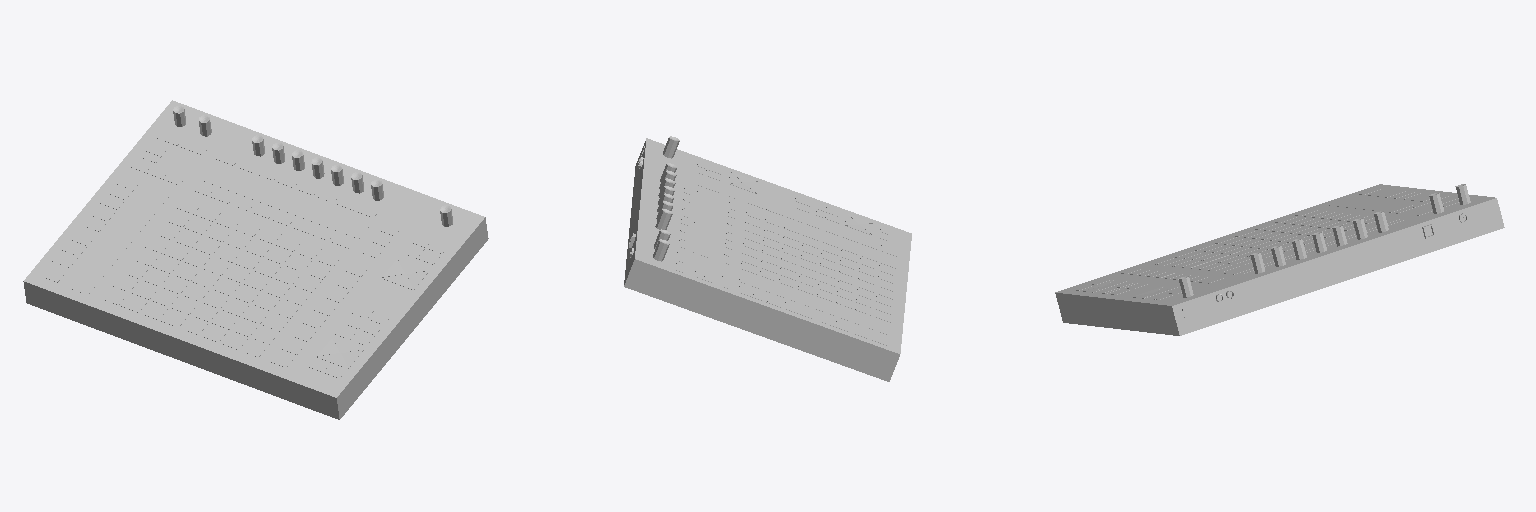
The model's file is push better.obj.
The picture shows the model from 3 angles: view 1: azimuth 30°, elevation 25°; view 2: azimuth 150°, elevation 25°; view 3: azimuth 270°, elevation 25°; orthographic projection.
Parts seen in each view (by area): view 1: Cube_Cube.001; view 2: Cube_Cube.001; view 3: Cube_Cube.001.
Part boxes in pixels (bbox=[...]): Cube_Cube.001: bbox=[23, 100, 488, 419]; Cube_Cube.001: bbox=[624, 136, 911, 381]; Cube_Cube.001: bbox=[1055, 184, 1504, 335].
Size of the model in its own units: 30.28 by 12.49 by 32.29.